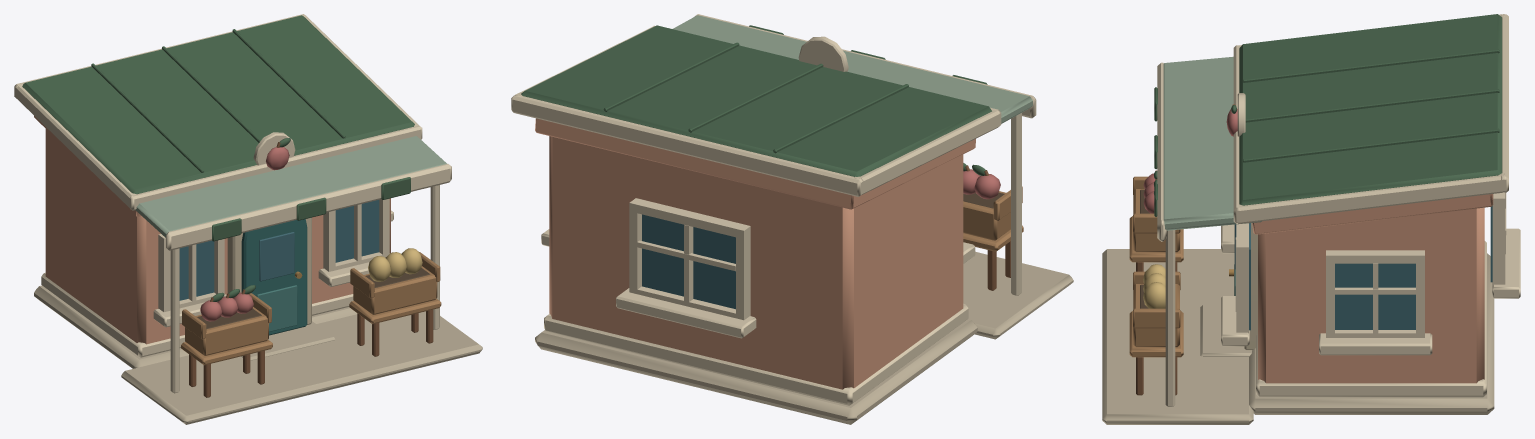
File: grocer_level_2.glb
3 renders of one model, left to right at view 1: azimuth 30°, elevation 25°; view 2: azimuth 150°, elevation 25°; view 3: azimuth 270°, elevation 25°, orthographic. The views are drawn at different scales.
Visible parts, largest first — view 1: grocer_level_2_runtime; view 2: grocer_level_2_runtime; view 3: grocer_level_2_runtime.
Boxes of the visible parts, x1,y1,x2,y2 form: grocer_level_2_runtime: (14,14,482,424); grocer_level_2_runtime: (511,14,1073,424); grocer_level_2_runtime: (1102,14,1520,424).
Bounding box in the file's own units: 3.82 × 2.63 × 3.95.
